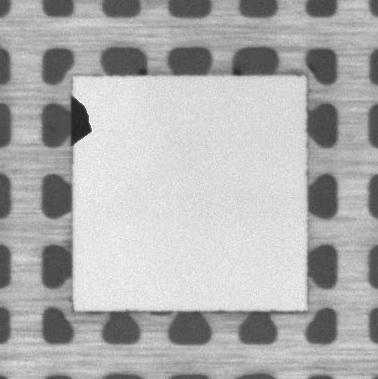DIE_BROKEN: (68, 94, 92, 146)
